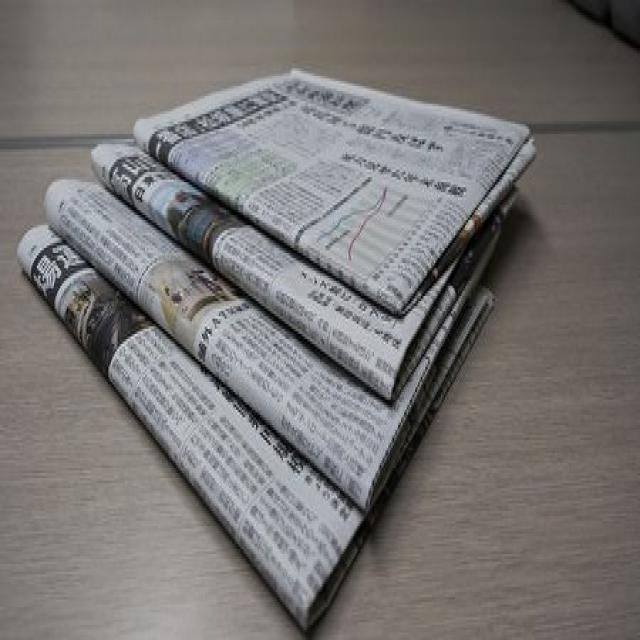newspaper: (18, 137, 493, 605), (141, 57, 535, 452)
